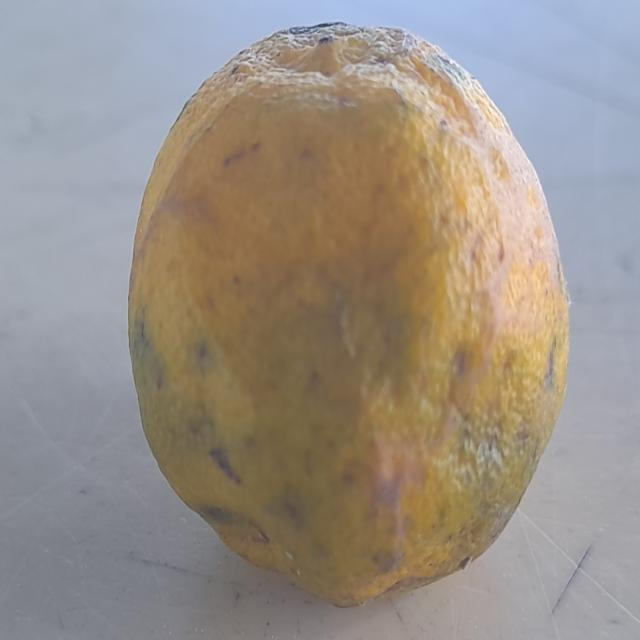black spot: (95, 11, 575, 618)
